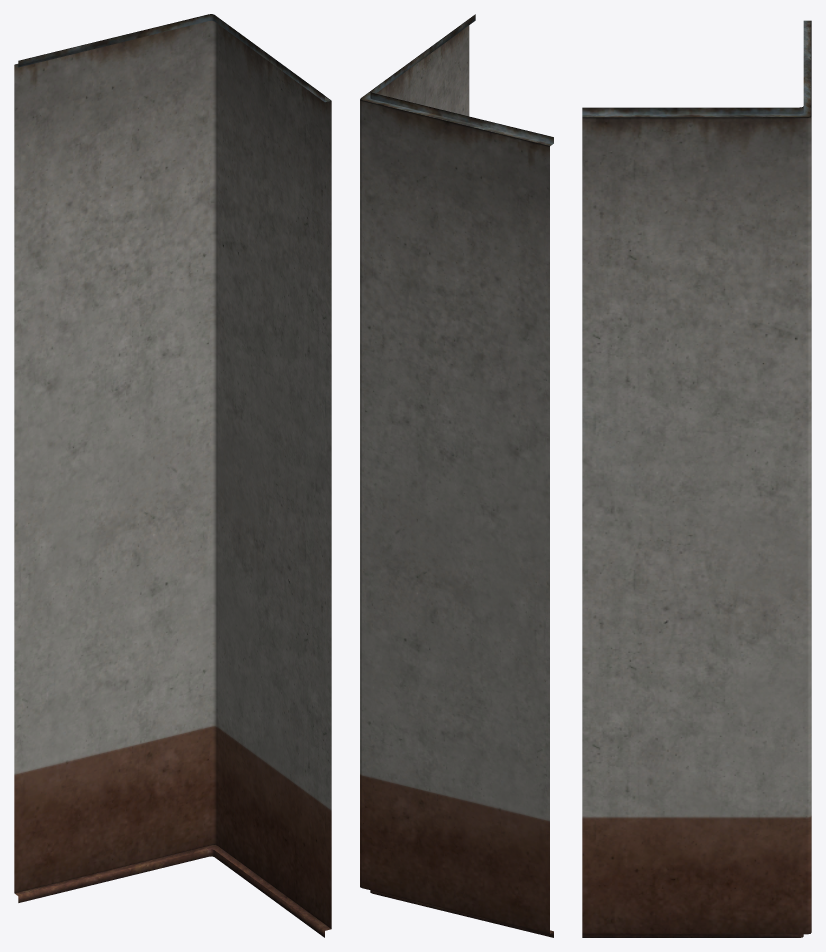
The model's file is scanningroom_concave_short.dae.
3 views of the same model, side by side, from view 1: azimuth 30°, elevation 25°; view 2: azimuth 150°, elevation 25°; view 3: azimuth 270°, elevation 25° (orthographic). The views are drawn at different scales.
Parts seen in each view (by area): view 1: scanningroom_concave_short; view 2: scanningroom_concave_short; view 3: scanningroom_concave_short.
Boxes of the visible parts, x1,y1,x2,y2 form: scanningroom_concave_short: (14,14,331,937); scanningroom_concave_short: (360,14,553,937); scanningroom_concave_short: (582,20,811,937).
Bounding box in the file's own units: 100 × 400 × 100.
